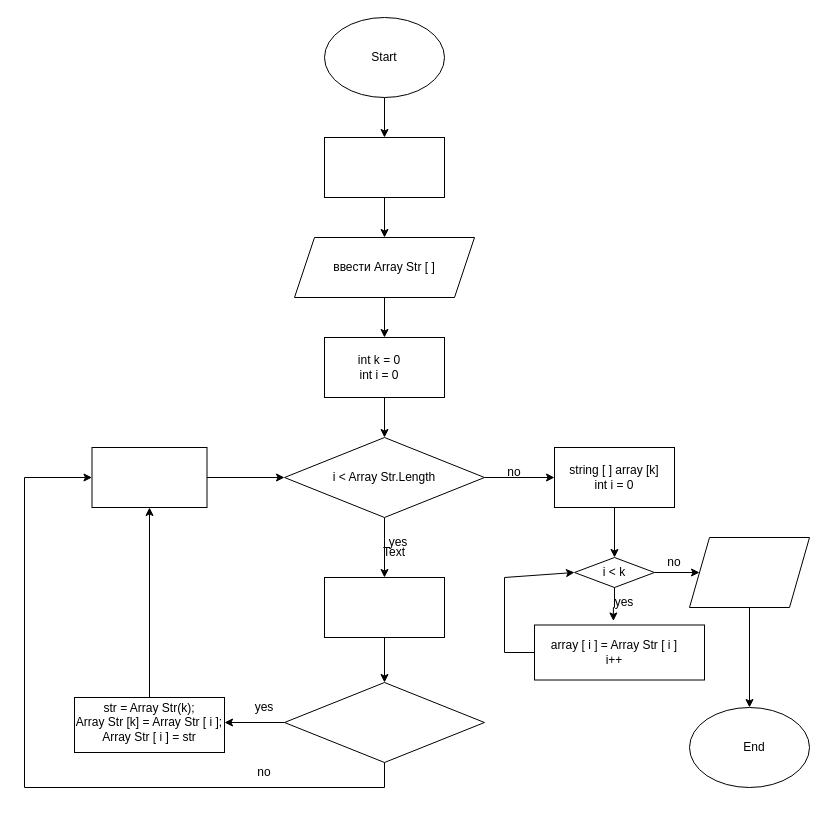
Image size: 827x813. Some labels were removed from this diagram. Each missing label, with the box of its shape:
Array Str [ i ] Length < = 3: (284, 682, 484, 762)
i++: (91, 446, 207, 508)
int n string[ ] ArrayStr [n]: (324, 136, 444, 198)
string str: (324, 576, 444, 638)
вывести array [ ]: (688, 536, 810, 608)
